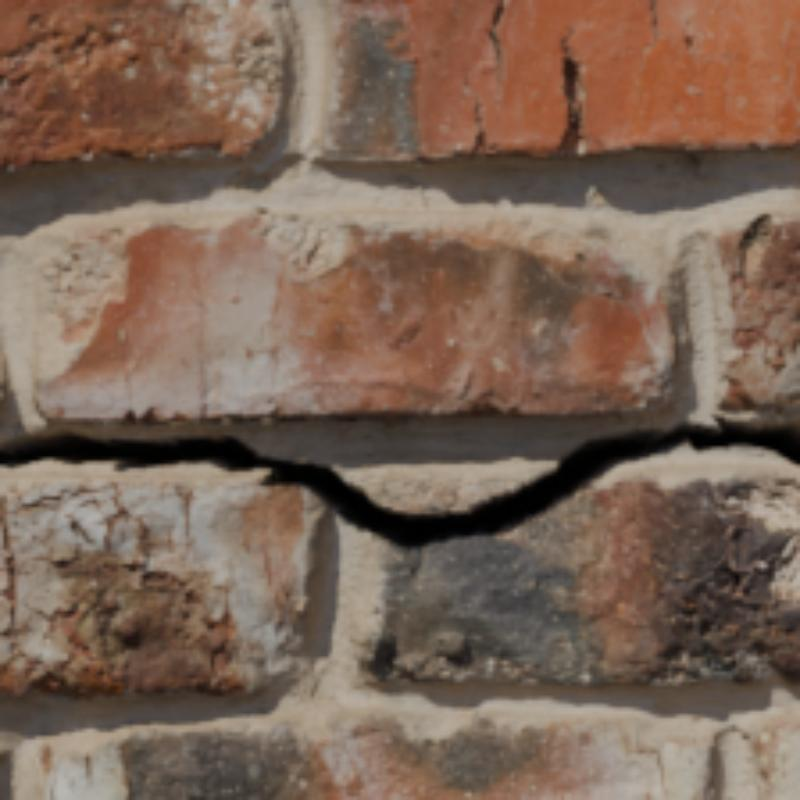crack: (0, 414, 796, 550), (561, 61, 582, 150)
